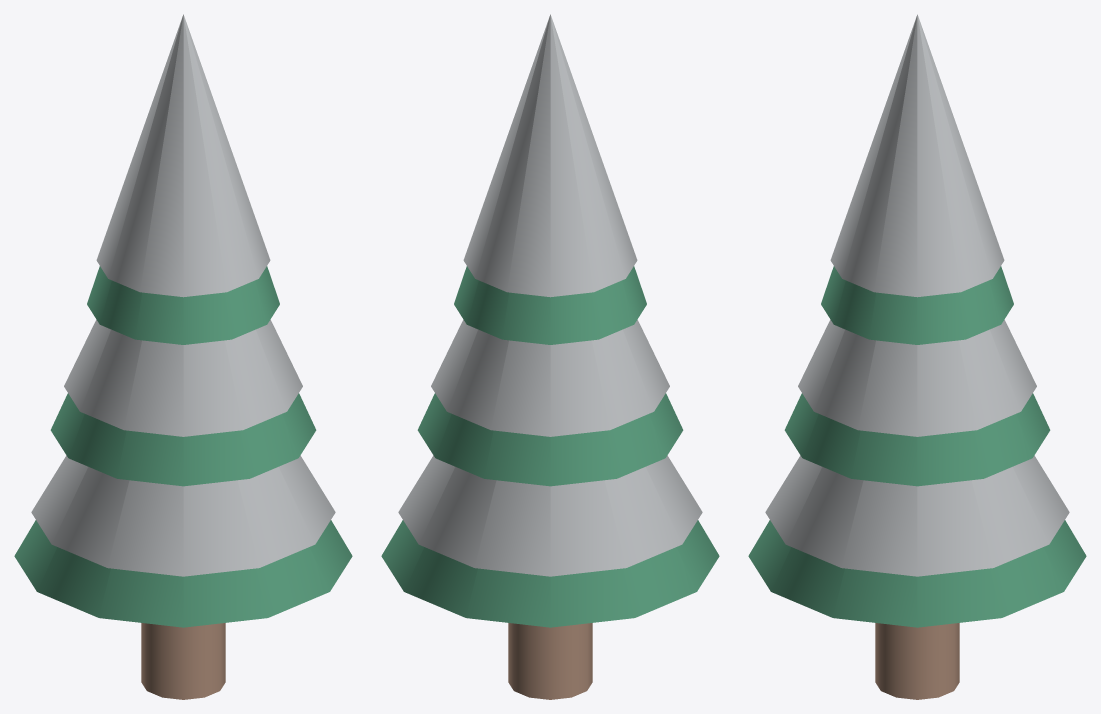
File: st_snow_pine.glb
3 views of the same model, side by side, from view 1: azimuth 30°, elevation 25°; view 2: azimuth 150°, elevation 25°; view 3: azimuth 270°, elevation 25° (orthographic).
Visible parts, largest first — view 1: Snow_Pine; view 2: Snow_Pine; view 3: Snow_Pine.
Part boxes in pixels (<box>): Snow_Pine: <box>14,14,352,699</box>; Snow_Pine: <box>381,14,719,699</box>; Snow_Pine: <box>748,14,1086,699</box>.
Bounding box in the file's own units: 1.01 × 2.2 × 1.01.
